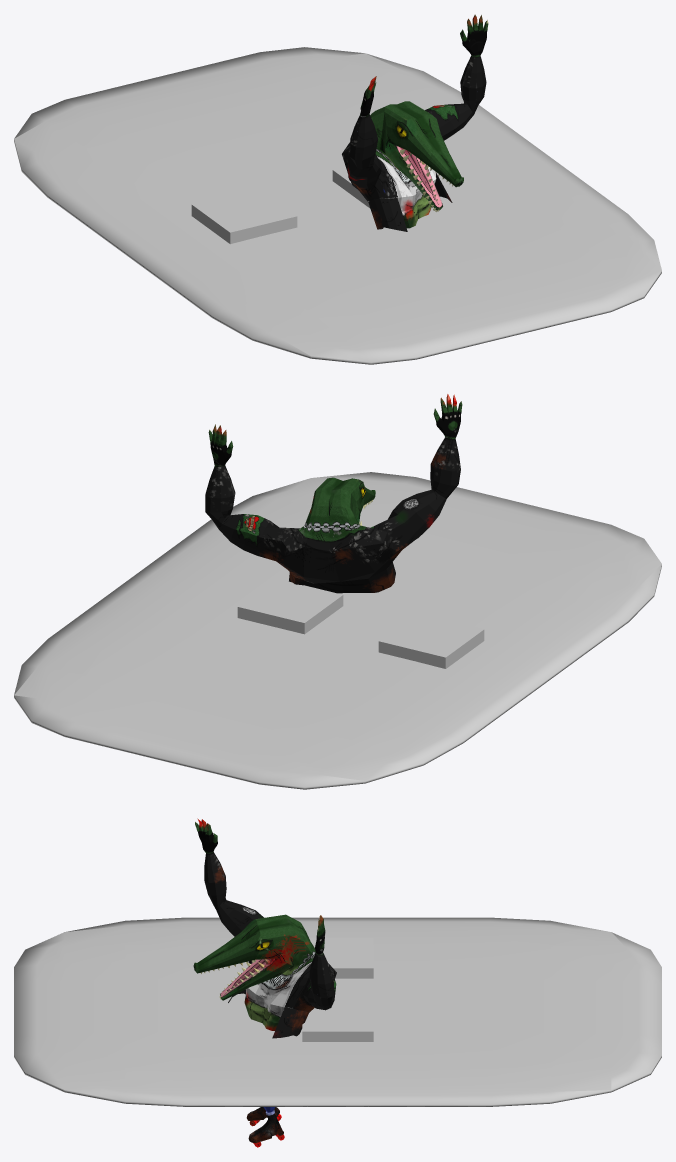
The model's file is cocodrilaBonesSelect_000022.obj.
3 renders of one model, top to bottom at view 1: azimuth 30°, elevation 25°; view 2: azimuth 150°, elevation 25°; view 3: azimuth 270°, elevation 25°, orthographic. The views are drawn at different scales.
Visible parts, largest first — view 1: Mball, Crocodile.002_Cylinder.002, Cube, Cube.001; view 2: Mball, Crocodile.002_Cylinder.002, Cube, Cube.001; view 3: Mball, Crocodile.002_Cylinder.002, Cube.001, Cube.
Part boxes in pixels (<box>): Mball: <box>14,47,661,364</box>; Crocodile.002_Cylinder.002: <box>342,14,488,231</box>; Cube: <box>191,188,297,243</box>; Cube.001: <box>332,167,370,208</box>; Mball: <box>14,472,661,789</box>; Crocodile.002_Cylinder.002: <box>205,394,462,593</box>; Cube: <box>378,613,484,668</box>; Cube.001: <box>237,578,343,634</box>; Mball: <box>14,917,661,1106</box>; Crocodile.002_Cylinder.002: <box>193,818,336,1147</box>; Cube.001: <box>302,1001,373,1041</box>; Cube: <box>309,938,373,978</box>.
Bounding box in the file's own units: 12.42 × 8.71 × 18.18.
